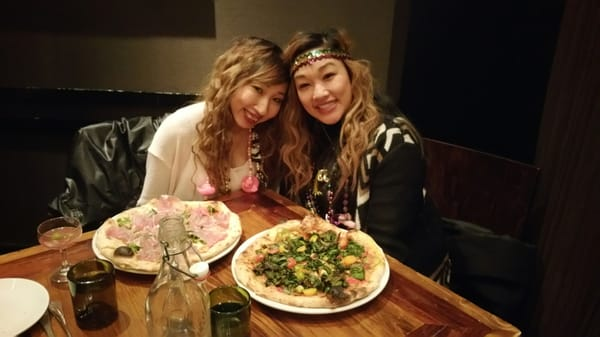pizza: (67, 258, 121, 335), (209, 285, 252, 336)
